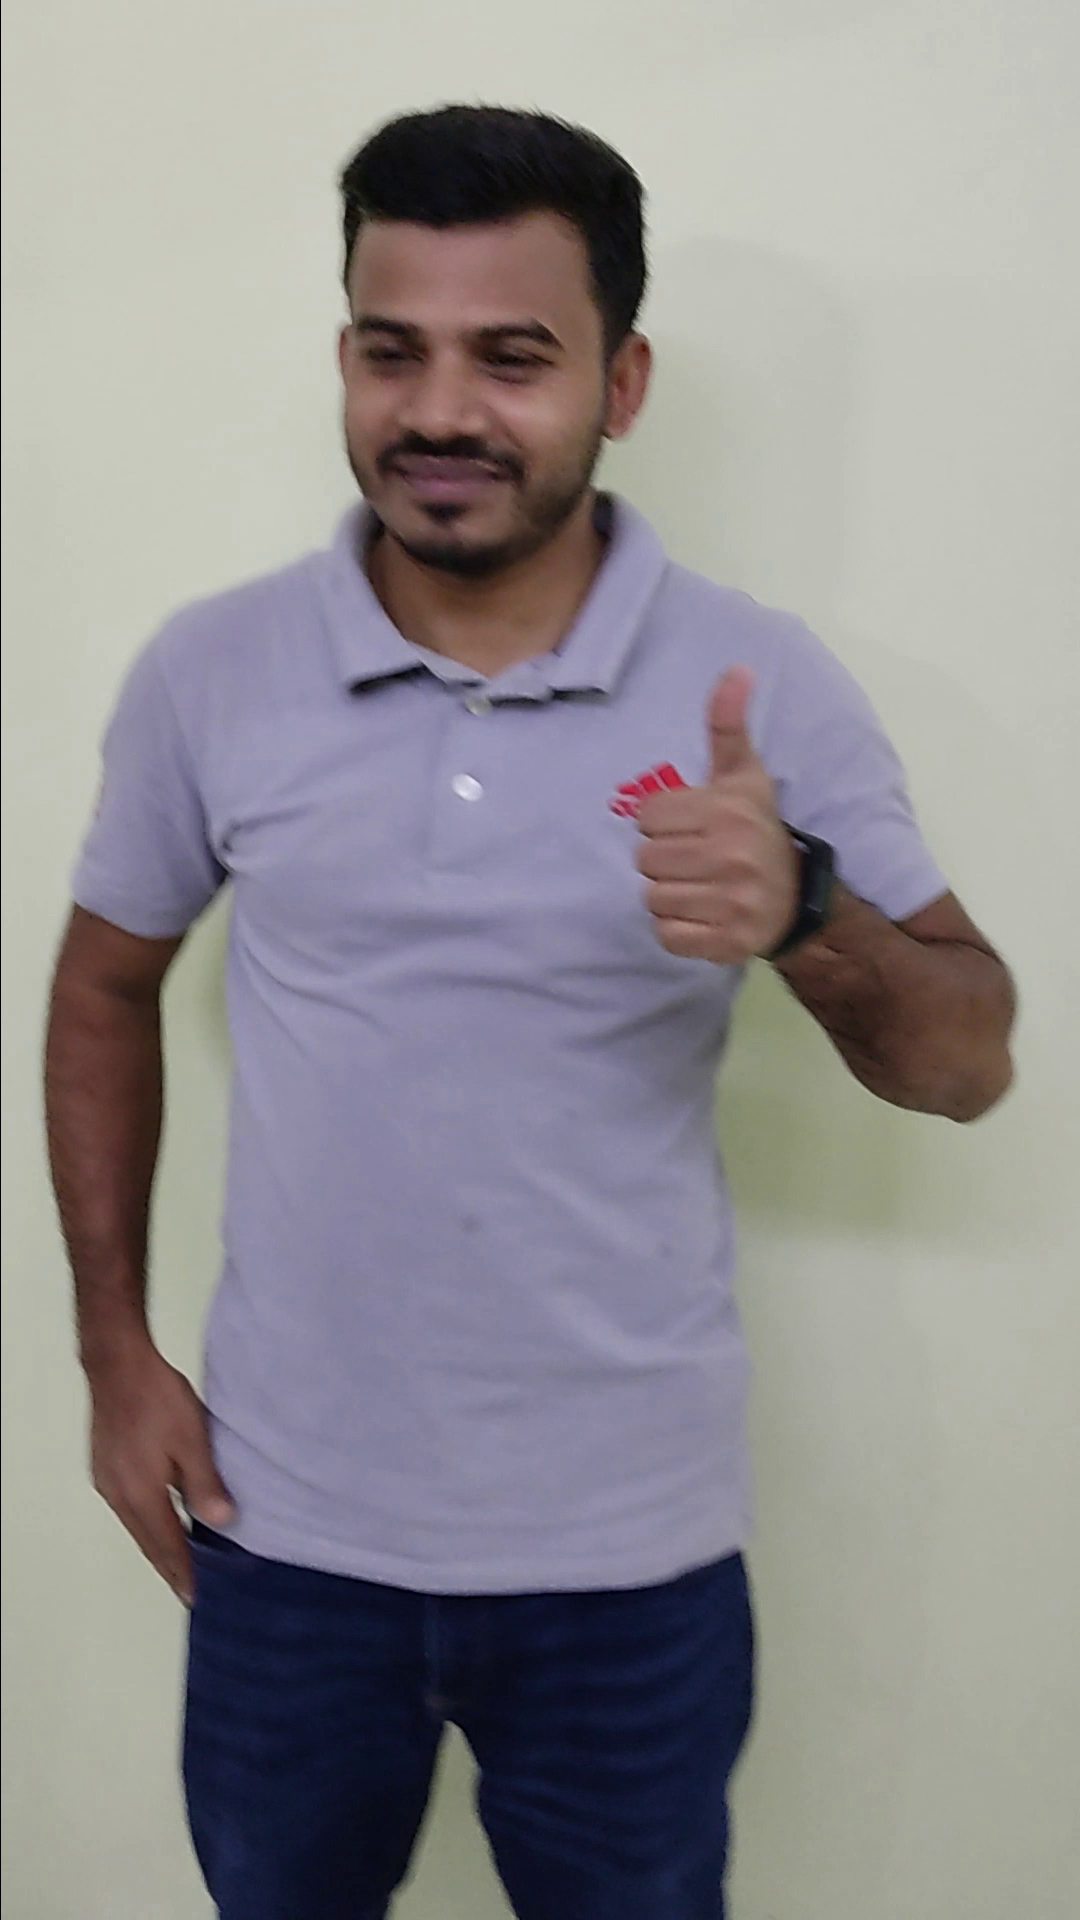Like: (604, 644, 829, 977)
None: (66, 1325, 253, 1625)
